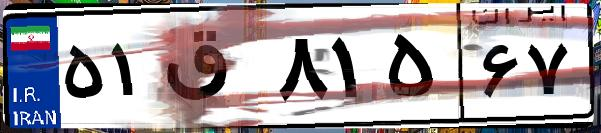1: (330, 28, 385, 110), (110, 28, 158, 98)
5: (385, 28, 445, 110), (57, 26, 110, 100)
6: (475, 38, 525, 113)
7: (525, 38, 570, 115)
8: (270, 28, 330, 110)
ق: (158, 20, 270, 120)
